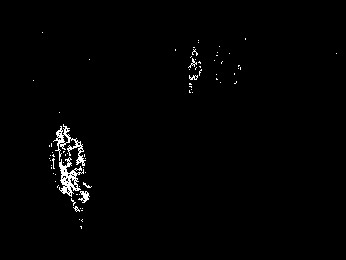person: (46, 124, 92, 229)
